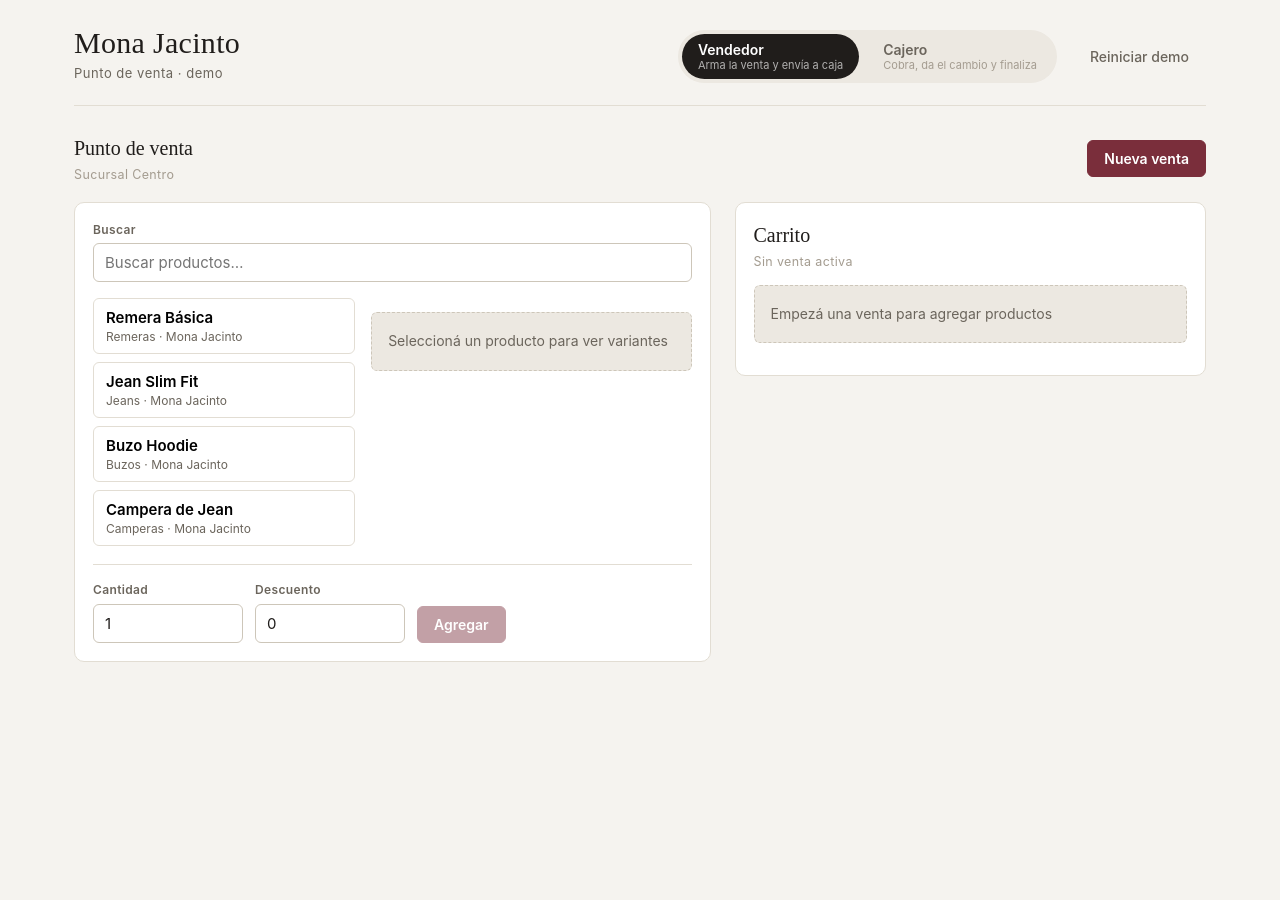
Scenario: App › surfaces a domain error and preserves the previous snapshot state
The width and height of the screenshot is (1280, 900).
Click the button "Nueva venta" at (1147, 159), box [1087,140,1206,177]
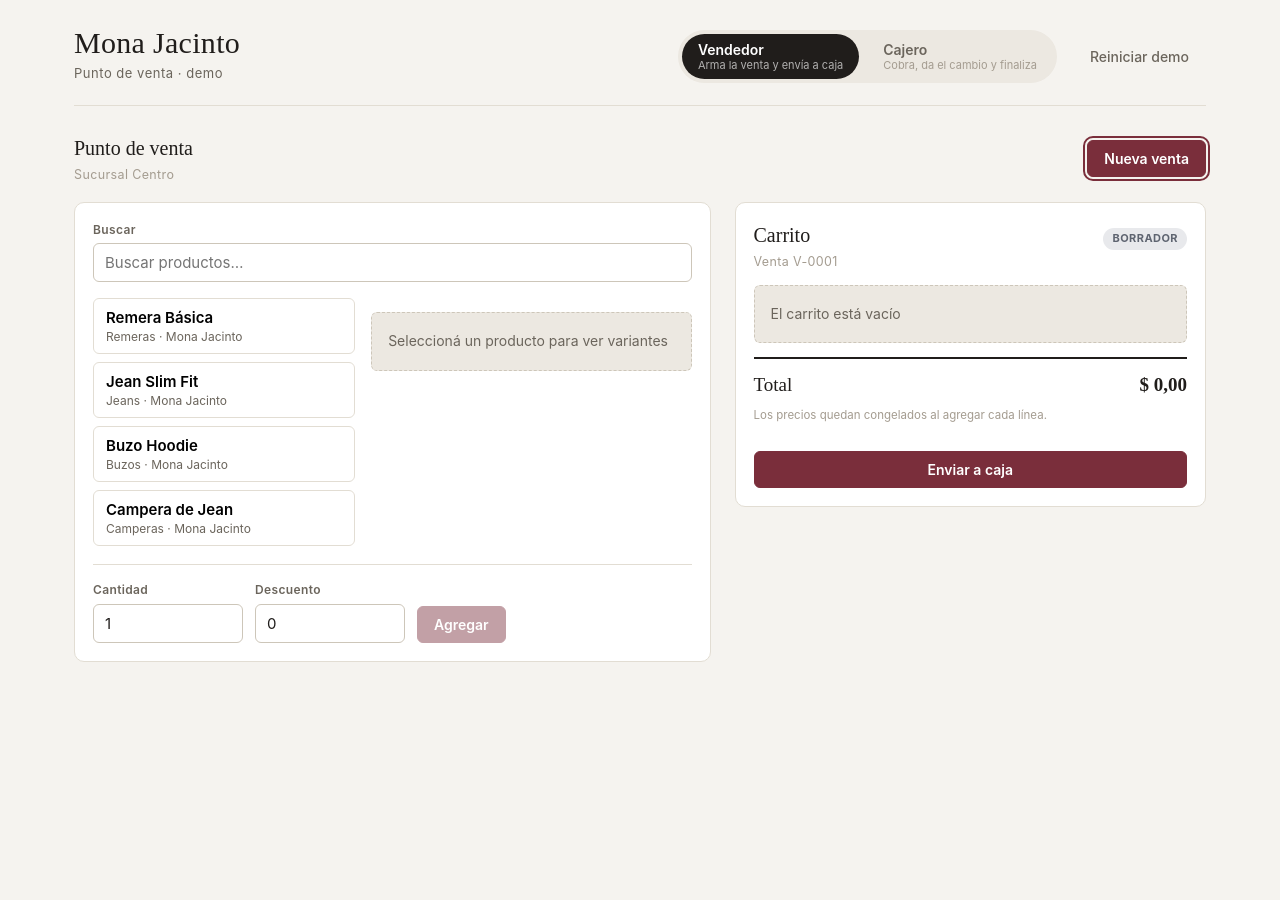
Click the button "Enviar a caja" at (970, 470), box [754,451,1187,488]
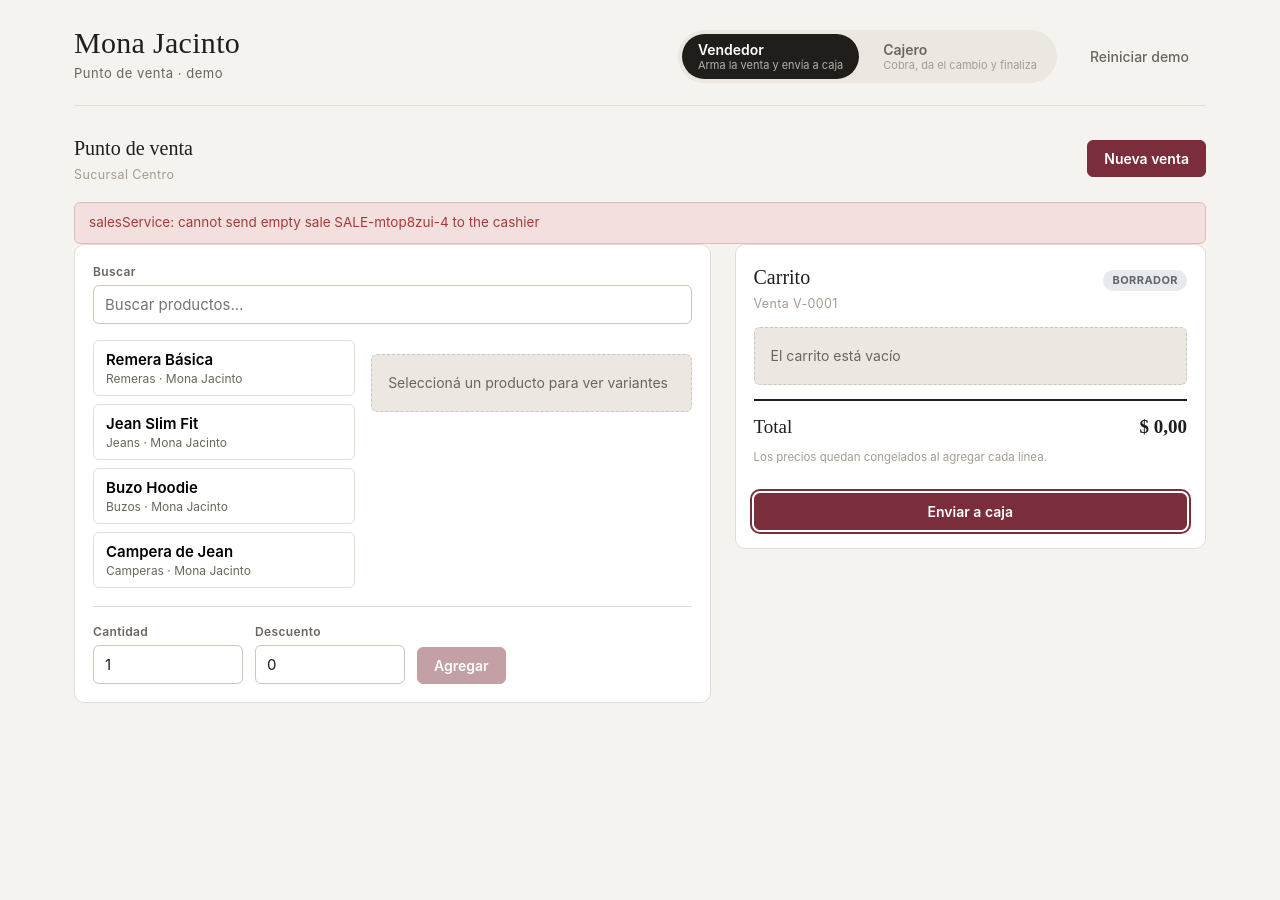
Result: the text "cannot send empty sale" is shown at [89,214,540,230]
